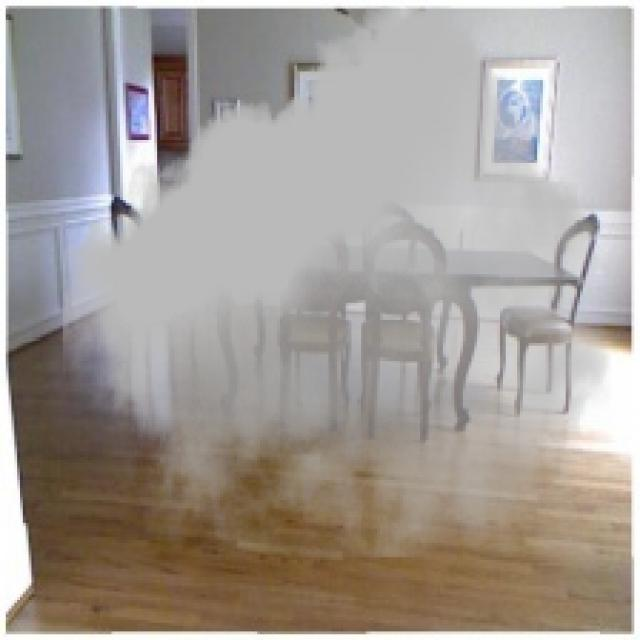smoke: (63, 6, 611, 557)
